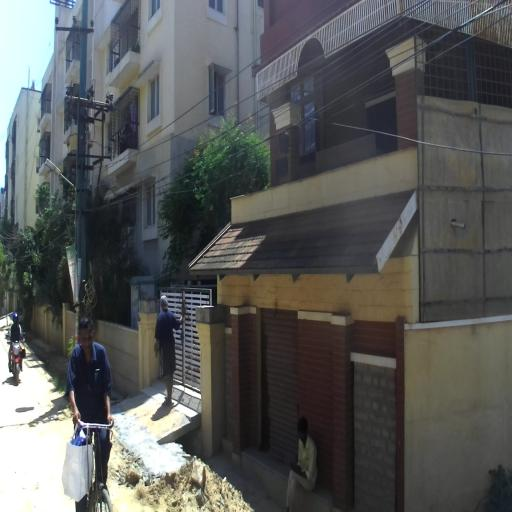street_light_0: (45, 158, 76, 191)
